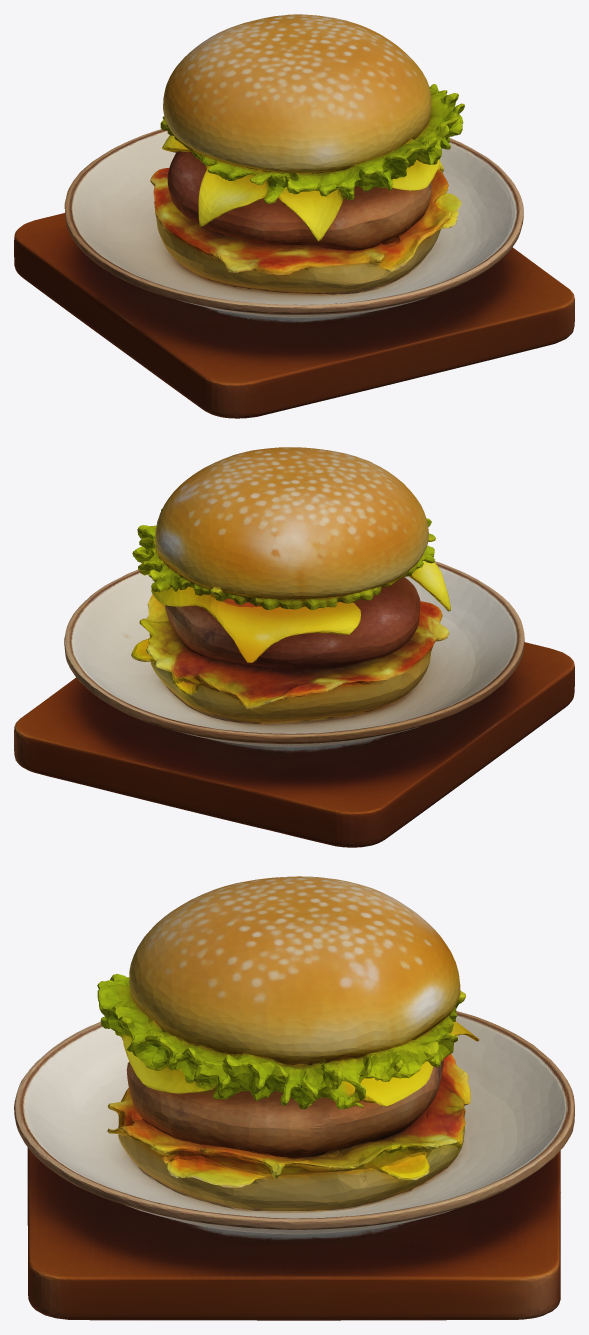
The picture shows the model from 3 angles, top to bottom: view 1: azimuth 30°, elevation 25°; view 2: azimuth 150°, elevation 25°; view 3: azimuth 270°, elevation 25°; orthographic projection. The views are drawn at different scales.
Visible parts, largest first — view 1: world; view 2: world; view 3: world.
Boxes of the visible parts, box(x1,y1,x2,y2) form: world: box(14, 14, 574, 418); world: box(14, 447, 574, 847); world: box(14, 876, 574, 1320).
Size of the model in its own units: 0.9799 by 0.6118 by 0.9998.
1 material, 1 textured.
